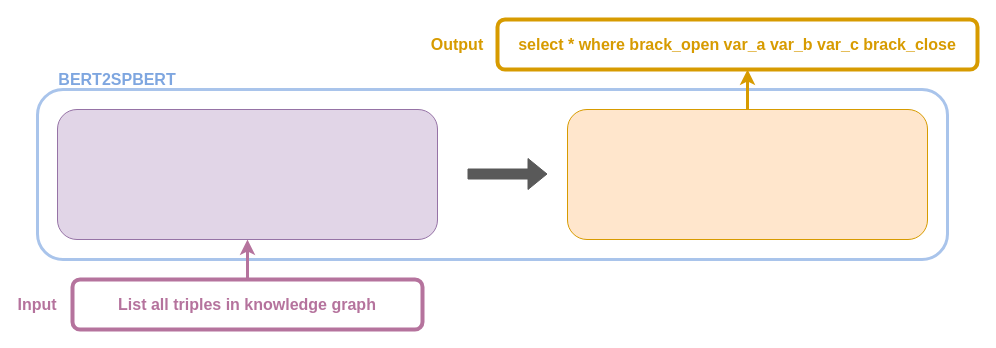
This 996x348 diagram has some shape labels left out. The shapes that lost their labels are listed below. From the top down, each one's box as (x1, y1, x2, y2) in pixels, then its label:
(56, 108, 438, 240): Encoders (BERT)
(566, 108, 928, 240): Decoders (SPBERT)
